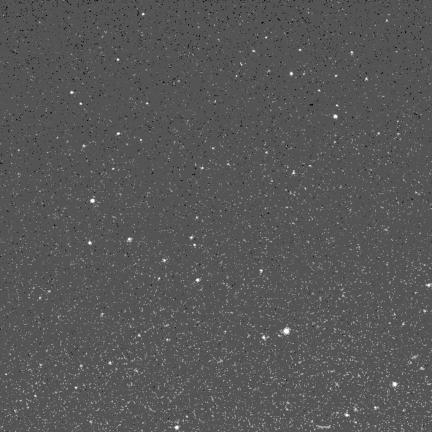blob: (283, 328, 290, 334), (392, 382, 398, 388), (127, 238, 132, 242), (333, 114, 337, 119), (90, 199, 95, 203), (262, 335, 266, 340), (163, 259, 167, 263), (175, 425, 179, 429), (345, 413, 349, 417), (88, 241, 92, 245), (260, 270, 264, 274), (142, 13, 146, 17), (196, 279, 200, 282), (117, 58, 120, 62), (117, 133, 121, 136), (292, 171, 295, 175), (75, 387, 79, 390), (80, 103, 83, 106), (80, 365, 83, 368), (190, 236, 193, 239), (71, 91, 74, 94), (290, 72, 293, 75), (318, 90, 322, 92), (138, 334, 140, 337), (109, 362, 112, 364)
